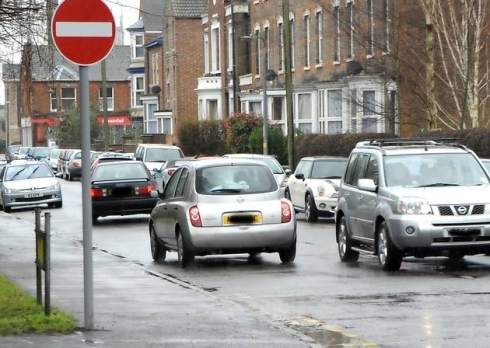No_entry: (50, 1, 117, 67)
